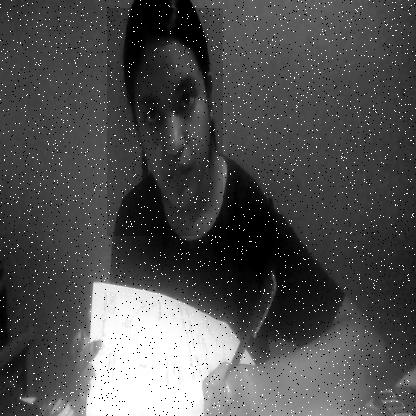Normal: (106, 8, 222, 236)
